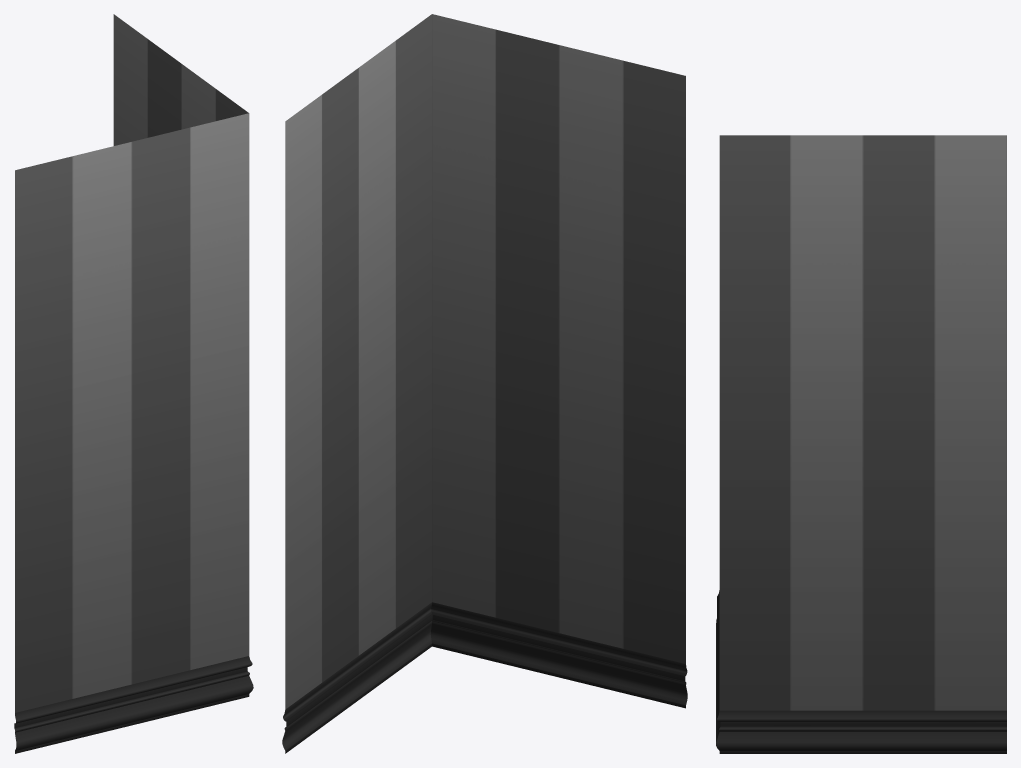
The model's file is Wall_03_Ext 1.fbx.
3 views of the same model, side by side, from view 1: azimuth 30°, elevation 25°; view 2: azimuth 150°, elevation 25°; view 3: azimuth 270°, elevation 25° (orthographic). The views are drawn at different scales.
Visible parts, largest first — view 1: Wall_03_Ext; view 2: Wall_03_Ext; view 3: Wall_03_Ext.
Part boxes in pixels (x1,y1,x2,y2): Wall_03_Ext: (14,14,253,753); Wall_03_Ext: (282,14,687,753); Wall_03_Ext: (716,135,1006,753).
Bounding box in the file's own units: 1.13 × 2.65 × 1.13.
